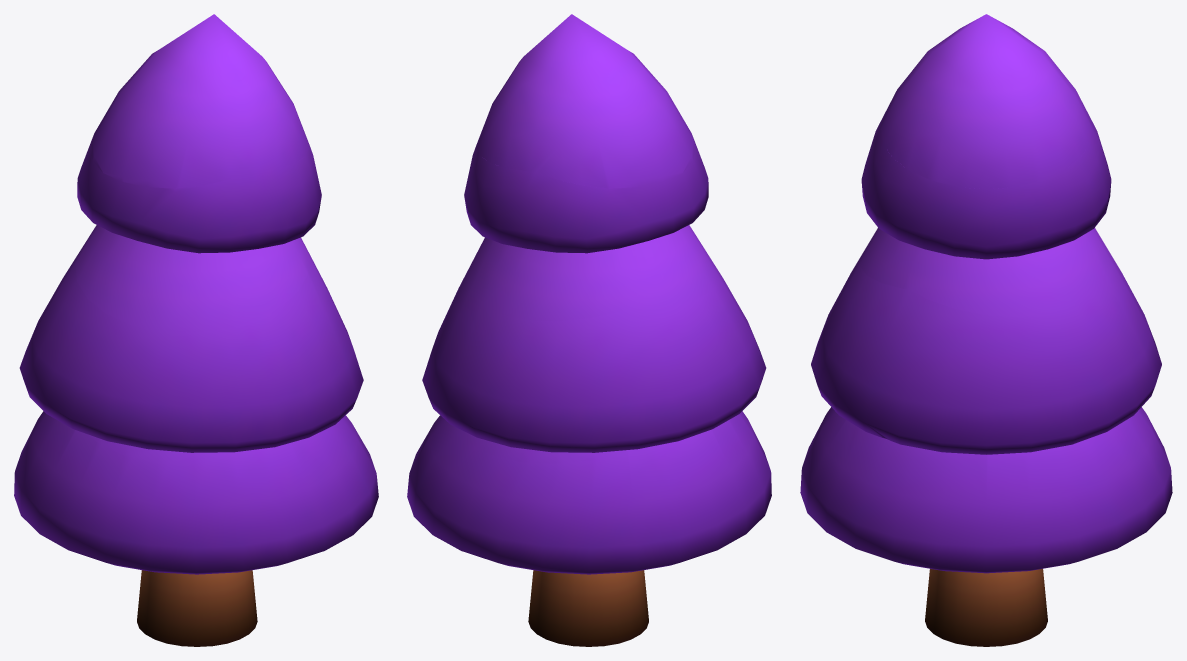
The model's file is LOC_Tree.fbx.
3 renders of one model, left to right at view 1: azimuth 30°, elevation 25°; view 2: azimuth 150°, elevation 25°; view 3: azimuth 270°, elevation 25°, orthographic. The views are drawn at different scales.
Visible parts, largest first — view 1: Tree03, Tree02, Tree04, Tree05, Tree01; view 2: Tree03, Tree02, Tree04, Tree05, Tree01; view 3: Tree03, Tree02, Tree04, Tree05, Tree01.
Boxes of the visible parts, bbox=[...] form: Tree03: bbox=[19, 250, 363, 466]; Tree02: bbox=[14, 411, 378, 574]; Tree04: bbox=[75, 131, 321, 332]; Tree05: bbox=[90, 14, 309, 188]; Tree01: bbox=[137, 570, 257, 646]; Tree03: bbox=[422, 263, 766, 463]; Tree02: bbox=[407, 411, 771, 574]; Tree04: bbox=[464, 131, 719, 321]; Tree05: bbox=[476, 14, 695, 188]; Tree01: bbox=[528, 570, 648, 646]; Tree03: bbox=[811, 250, 1161, 456]; Tree02: bbox=[800, 407, 1172, 573]; Tree04: bbox=[859, 118, 1113, 317]; Tree05: bbox=[881, 14, 1091, 189]; Tree01: bbox=[925, 569, 1047, 646].
Bounding box in the file's own units: 106 × 195 × 107.
